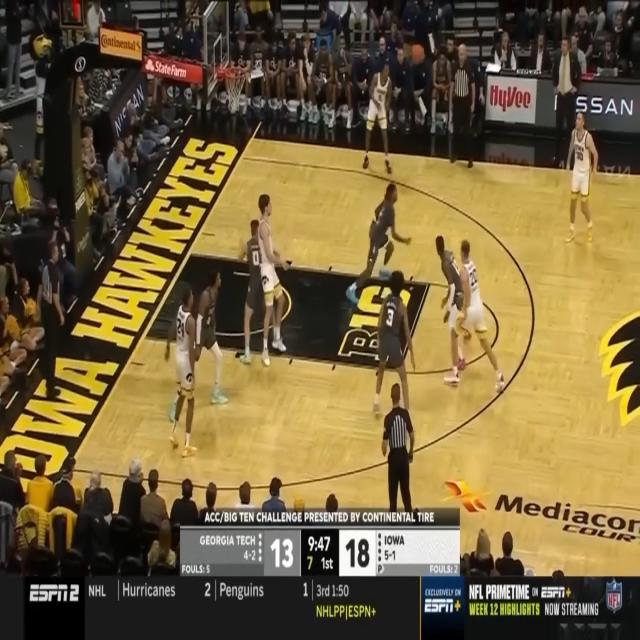Ball: (411, 44, 425, 66)
Clock: (60, 0, 84, 28)
Hoop: (224, 66, 246, 112)
Overlay: (0, 576, 640, 640), (181, 507, 460, 576)
Player: (444, 238, 506, 394), (168, 266, 228, 421), (345, 181, 412, 306), (370, 270, 417, 420), (238, 219, 280, 365), (164, 282, 197, 457), (258, 192, 288, 367), (436, 234, 474, 370), (564, 110, 599, 245), (362, 59, 393, 174)
Ref: (381, 383, 415, 535), (34, 240, 64, 397), (448, 44, 475, 170)
Scoreboard: (180, 529, 460, 575)
